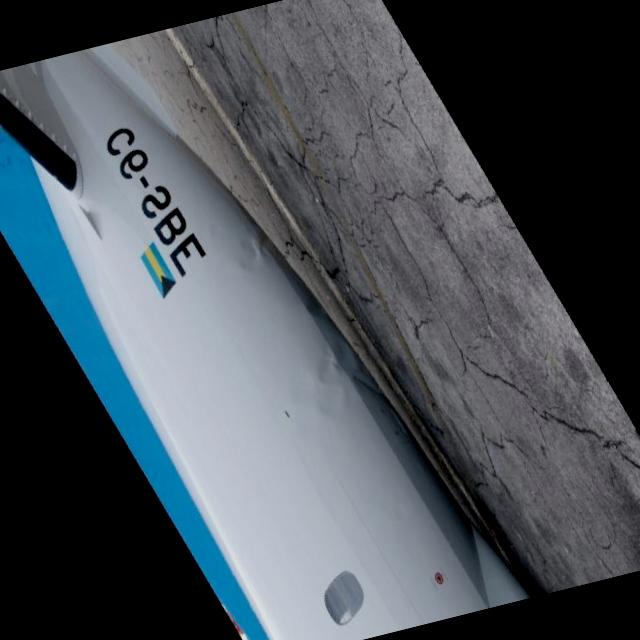dent: (268, 318, 394, 438), (228, 222, 290, 292)
